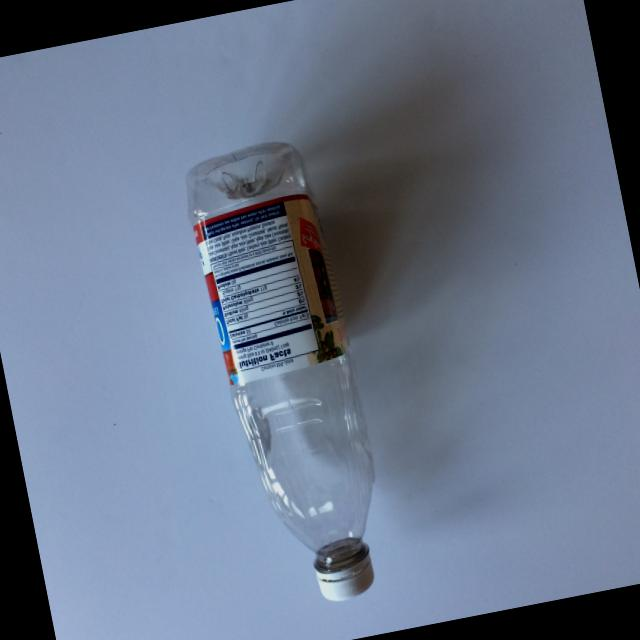Plastic: (144, 90, 496, 630)
